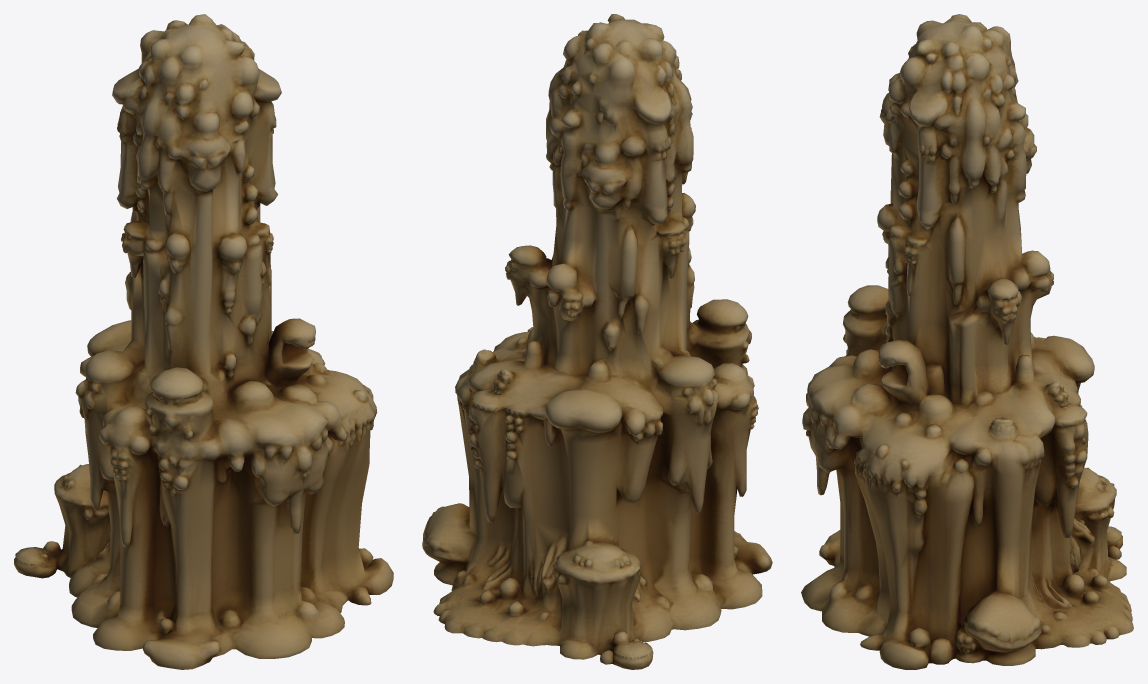
The model's file is cav_flowstone_column.glb.
The picture shows the model from 3 angles, left to right: view 1: azimuth 30°, elevation 25°; view 2: azimuth 150°, elevation 25°; view 3: azimuth 270°, elevation 25°; orthographic projection. The views are drawn at different scales.
Parts seen in each view (by area): view 1: tripo_node_8a3f4ca2-850e-4edb-8c34-48b62ca6a1c1; view 2: tripo_node_8a3f4ca2-850e-4edb-8c34-48b62ca6a1c1; view 3: tripo_node_8a3f4ca2-850e-4edb-8c34-48b62ca6a1c1.
Boxes of the visible parts, x1,y1,x2,y2 form: tripo_node_8a3f4ca2-850e-4edb-8c34-48b62ca6a1c1: [14, 14, 393, 669]; tripo_node_8a3f4ca2-850e-4edb-8c34-48b62ca6a1c1: [422, 14, 772, 669]; tripo_node_8a3f4ca2-850e-4edb-8c34-48b62ca6a1c1: [801, 14, 1133, 669].
Size of the model in its own units: 0.5371 by 0.998 by 0.5293.
Materials: 1 (1 with a texture image).
